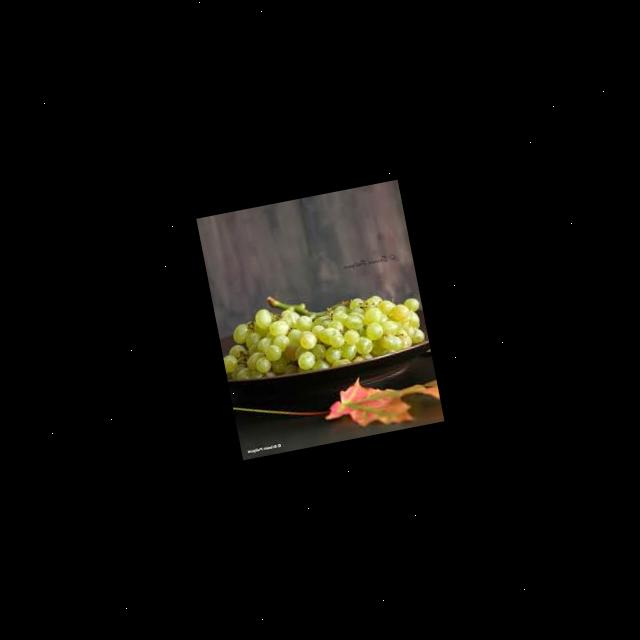grape: (214, 268, 429, 388)
